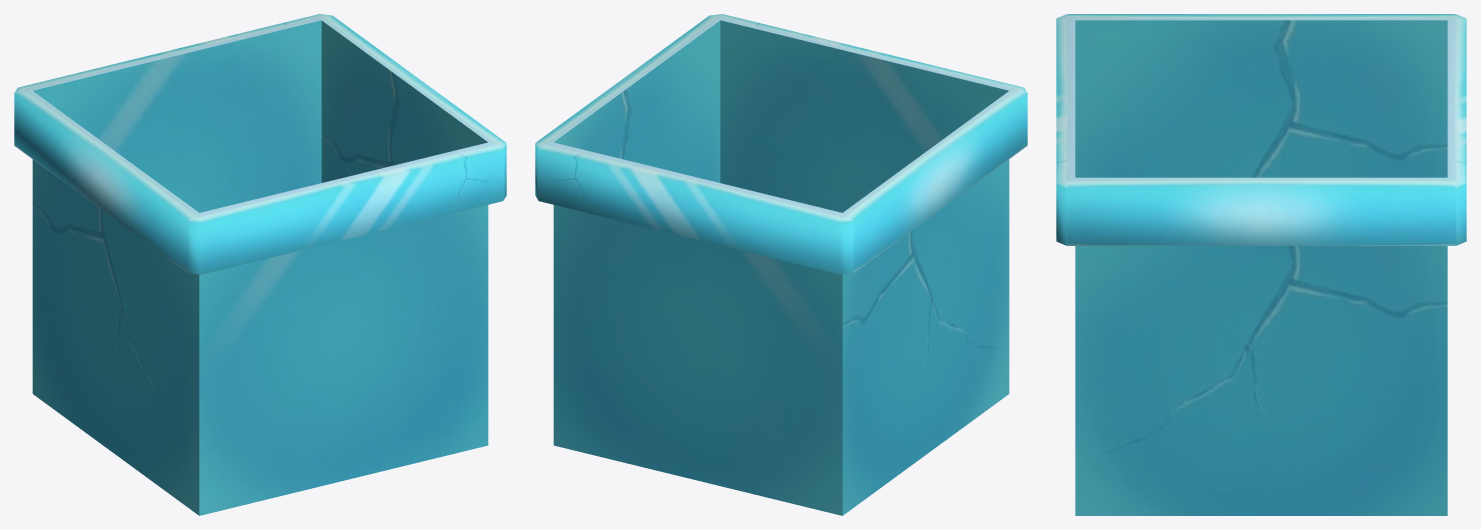
The model's file is FillGapTile01.glb.
3 views of the same model, side by side, from view 1: azimuth 30°, elevation 25°; view 2: azimuth 150°, elevation 25°; view 3: azimuth 270°, elevation 25° (orthographic). The views are drawn at different scales.
Parts seen in each view (by area): view 1: FillGapTile01; view 2: FillGapTile01; view 3: FillGapTile01.
Part boxes in pixels (x1=…): FillGapTile01: x1=14, y1=14, x2=506, y2=515; FillGapTile01: x1=535, y1=14, x2=1027, y2=515; FillGapTile01: x1=1056, y1=14, x2=1466, y2=515.
Size of the model in its own units: 3 by 2.73 by 3.
1 material, 1 textured.
